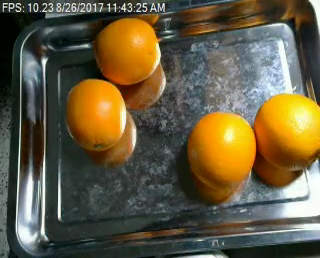Orange: (187, 112, 257, 190), (254, 93, 320, 172), (93, 17, 161, 83), (65, 78, 127, 150)
